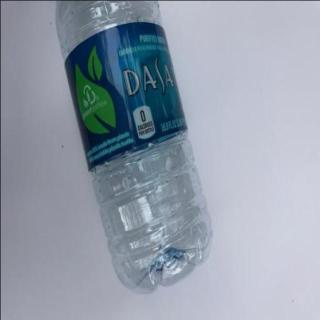Anorganik: (52, 0, 215, 299)
